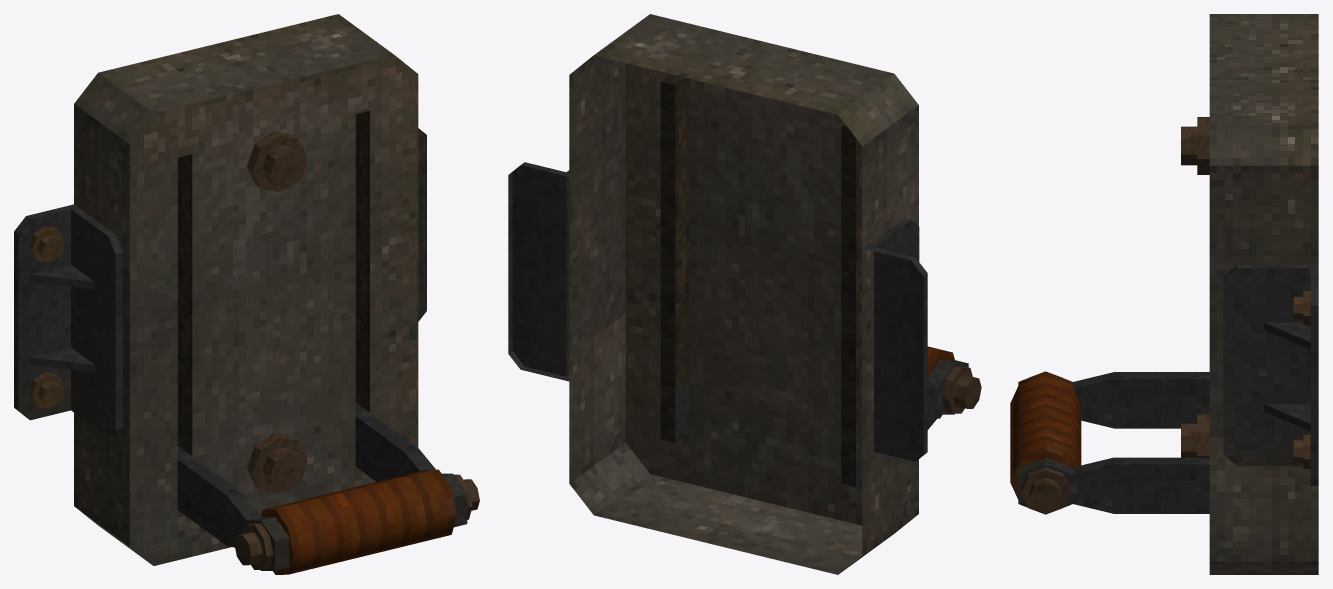
The model's file is lever_etx_1.glb.
3 renders of one model, left to right at view 1: azimuth 30°, elevation 25°; view 2: azimuth 150°, elevation 25°; view 3: azimuth 270°, elevation 25°, orthographic. The views are drawn at different scales.
Parts seen in each view (by area): view 1: lever_etx_1, lever_etx_1_child; view 2: lever_etx_1, lever_etx_1_child; view 3: lever_etx_1, lever_etx_1_child.
Boxes of the visible parts, box(x1,y1,x2,y2) form: lever_etx_1: box(14, 14, 426, 565); lever_etx_1_child: box(177, 402, 479, 574); lever_etx_1: box(508, 14, 927, 574); lever_etx_1_child: box(675, 346, 981, 486); lever_etx_1: box(1181, 14, 1318, 574); lever_etx_1_child: box(1010, 371, 1209, 514).
Size of the model in its own units: 0.306 by 0.324 by 0.2034.
Materials: 1 (1 with a texture image).
